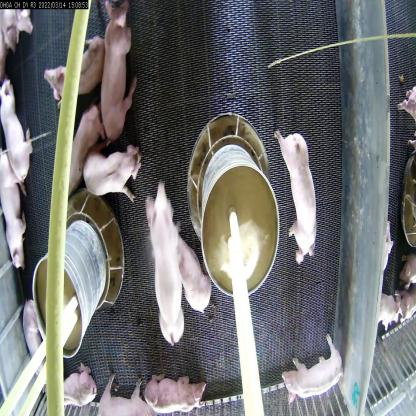Pig: (144, 195, 213, 317), (274, 120, 320, 277), (97, 3, 145, 152), (146, 182, 186, 344), (274, 327, 344, 404), (35, 31, 105, 103), (0, 68, 42, 188), (53, 101, 104, 194), (0, 150, 31, 276), (22, 295, 56, 385), (84, 145, 139, 200), (142, 372, 208, 412), (99, 374, 159, 415), (56, 351, 94, 396)
